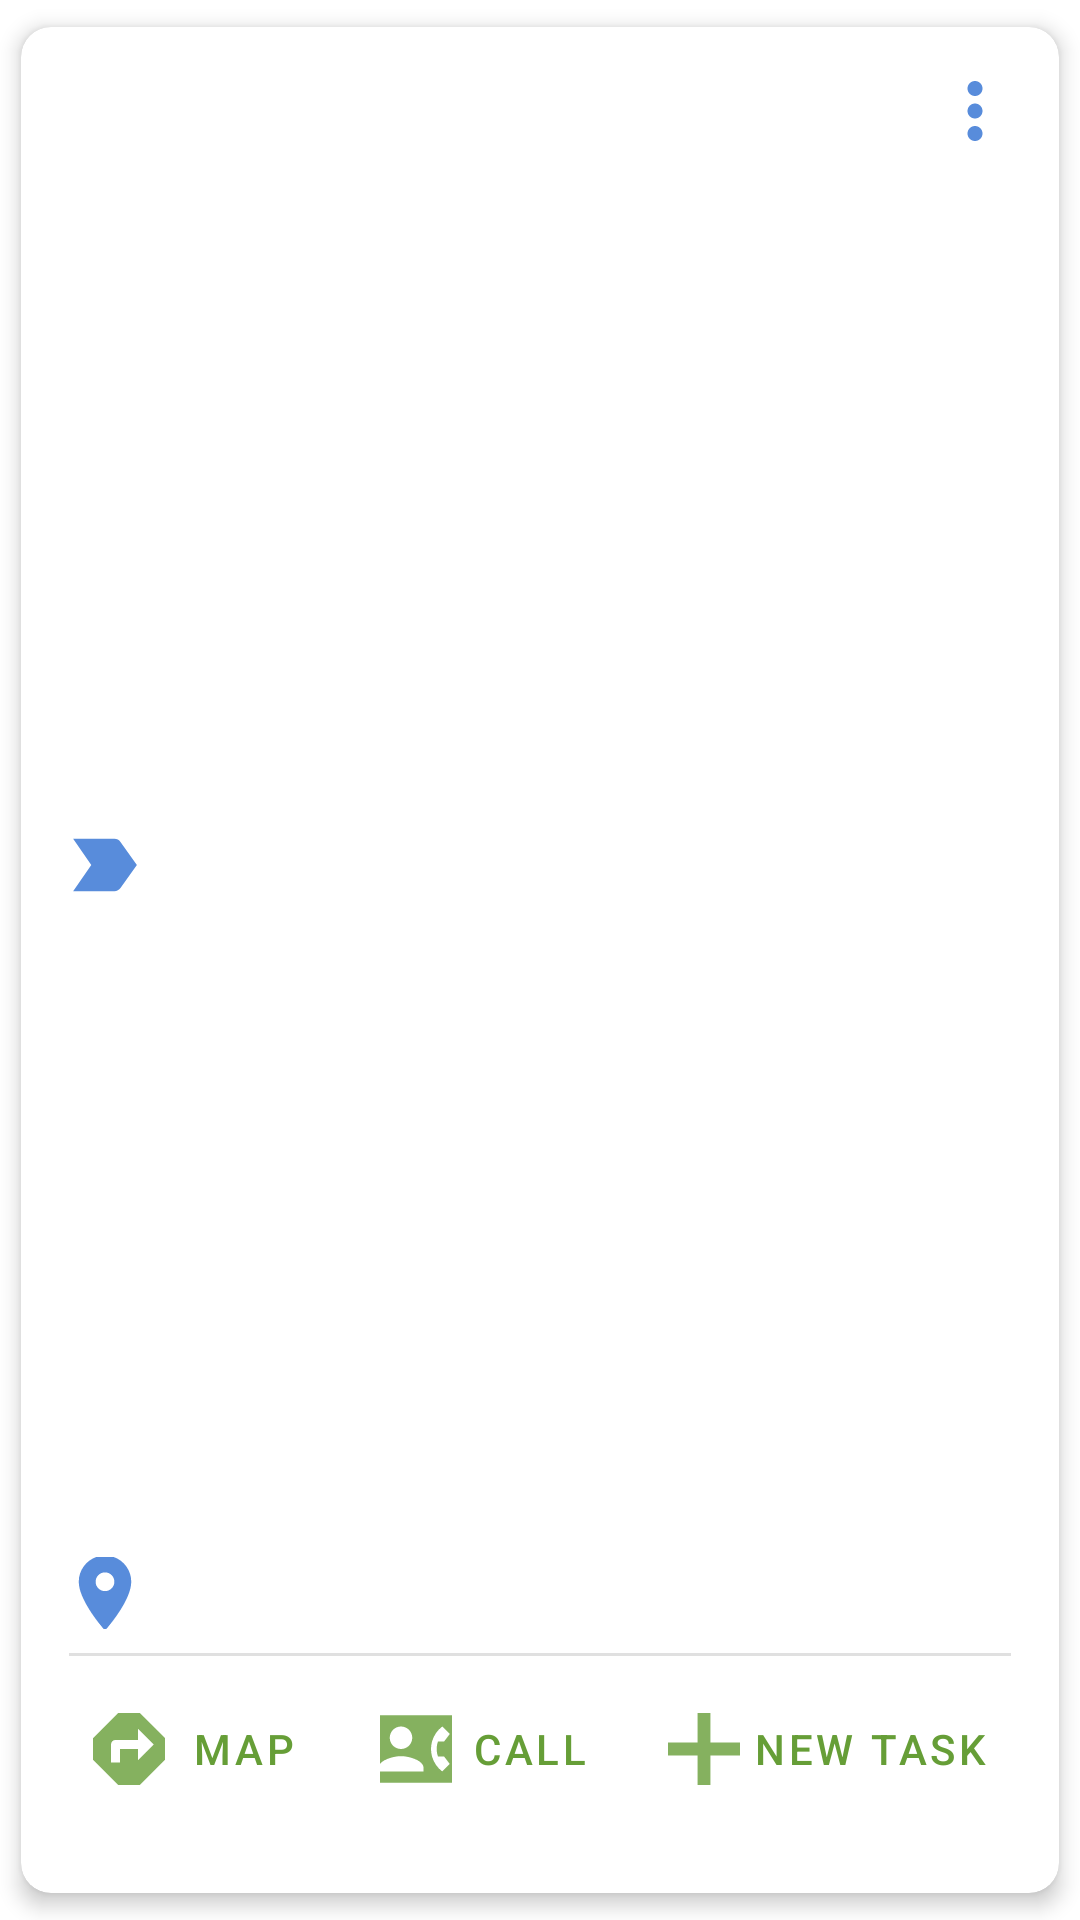

Icon bounding boxes for this 1080px×1920px phone screenshot, format BBox(x1, y1, x2, y2):
Current Task Icon: BBox(73, 838, 137, 892)
Location Icon: BBox(78, 1557, 132, 1629)
More Options Button: BBox(967, 81, 983, 141)
